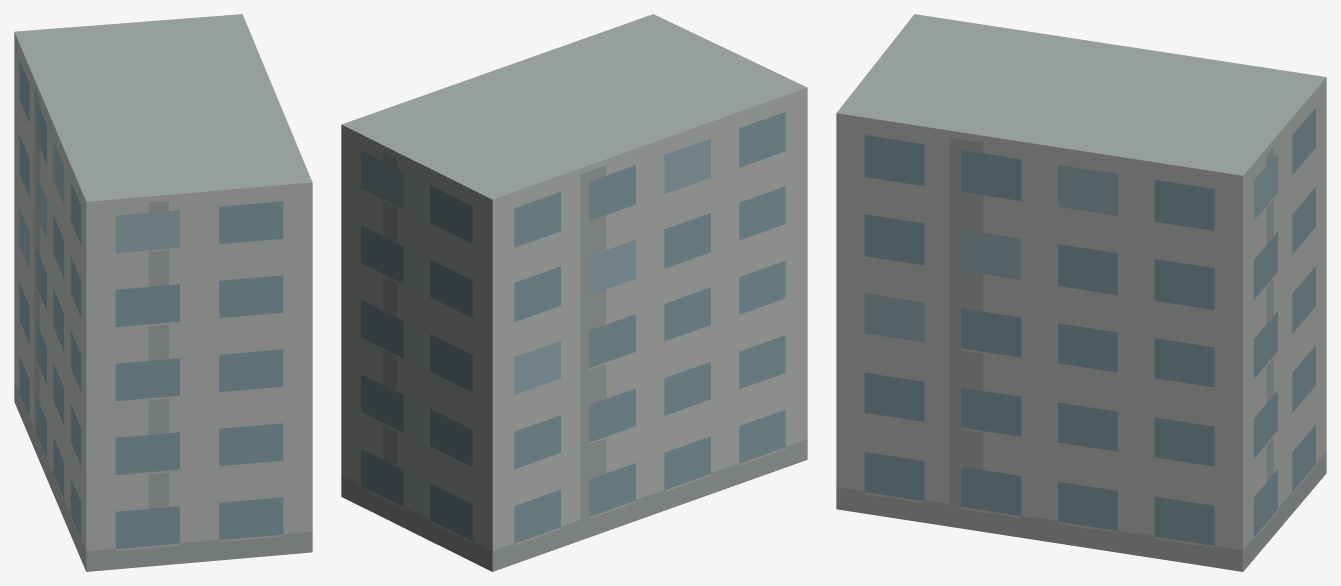
File: survey-upis-32929550.glb
The picture shows the model from 3 angles, left to right: view 1: azimuth 30°, elevation 25°; view 2: azimuth 150°, elevation 25°; view 3: azimuth 270°, elevation 25°; orthographic projection. The views are drawn at different scales.
Visible parts, largest first — view 1: survey-upis-32929550.tmp; view 2: survey-upis-32929550.tmp; view 3: survey-upis-32929550.tmp.
Part boxes in pixels (x1,y1,x2,y2): survey-upis-32929550.tmp: (14, 14, 312, 571); survey-upis-32929550.tmp: (341, 14, 807, 571); survey-upis-32929550.tmp: (836, 14, 1326, 571).
Bounding box in the file's own units: 12.71 × 14.5 × 16.28.
